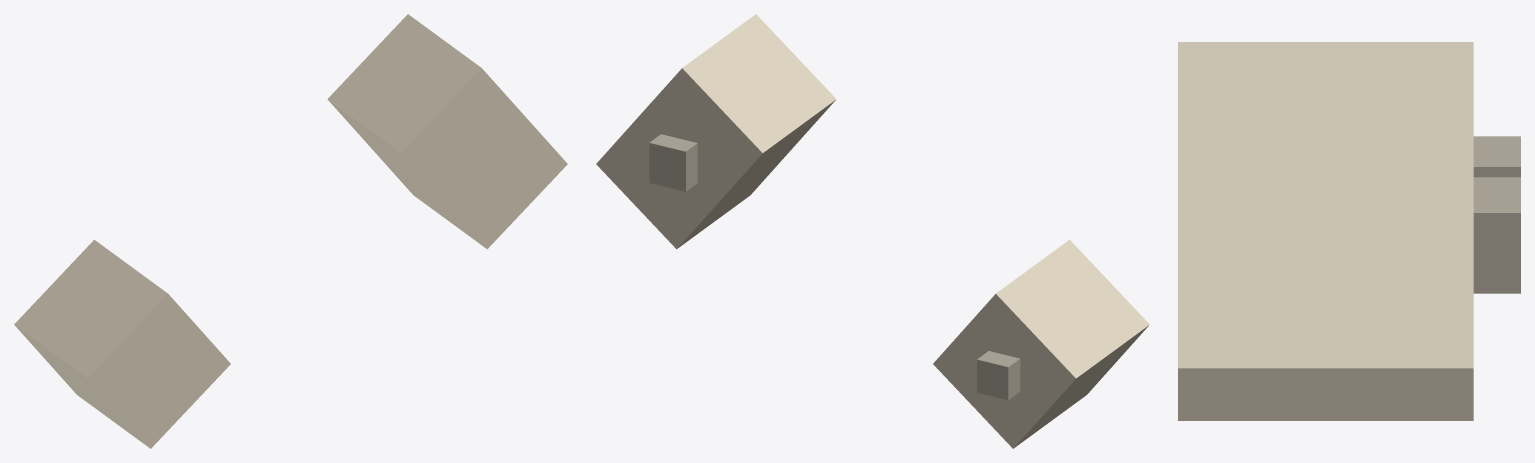
Rendered from historic-palestine-11_14_3533_3081.glb.
3 views of the same model, side by side, from view 1: azimuth 30°, elevation 25°; view 2: azimuth 150°, elevation 25°; view 3: azimuth 270°, elevation 25° (orthographic). The views are drawn at different scales.
Visible parts, largest first — view 1: Building_.001, Building_; view 2: Building_.001, Building_, Roof access hut .001, Roof access hut; view 3: Building_.001, Roof access hut .001, Building_, Roof access hut.
Part boxes in pixels (bbox=[...]): Building_.001: bbox=[327, 14, 567, 249]; Building_: bbox=[14, 239, 230, 448]; Building_.001: bbox=[596, 14, 836, 249]; Building_: bbox=[933, 239, 1149, 448]; Roof access hut .001: bbox=[649, 134, 697, 191]; Roof access hut: bbox=[977, 351, 1020, 400]; Building_.001: bbox=[1178, 50, 1473, 420]; Roof access hut .001: bbox=[1473, 177, 1520, 293]; Building_: bbox=[1178, 42, 1473, 49]; Roof access hut: bbox=[1473, 136, 1520, 177].
Bounding box in the file's own units: 28.13 × 16.81 × 8.7.
